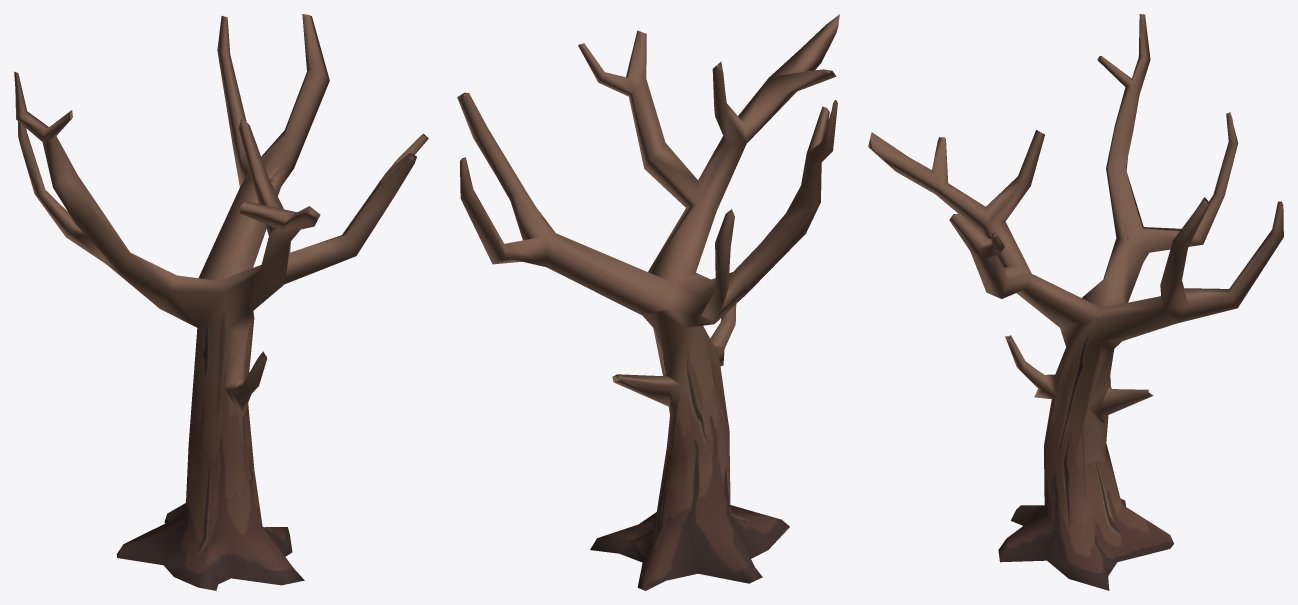
File: dead_tree.fbx
3 renders of one model, left to right at view 1: azimuth 30°, elevation 25°; view 2: azimuth 150°, elevation 25°; view 3: azimuth 270°, elevation 25°, orthographic. The views are drawn at different scales.
Parts seen in each view (by area): view 1: polySurface44; view 2: polySurface44; view 3: polySurface44.
Part boxes in pixels (x1,y1,x2,y2): polySurface44: [14, 14, 428, 590]; polySurface44: [457, 14, 839, 590]; polySurface44: [868, 14, 1283, 590].
Bounding box in the file's own units: 328 × 479 × 389.
